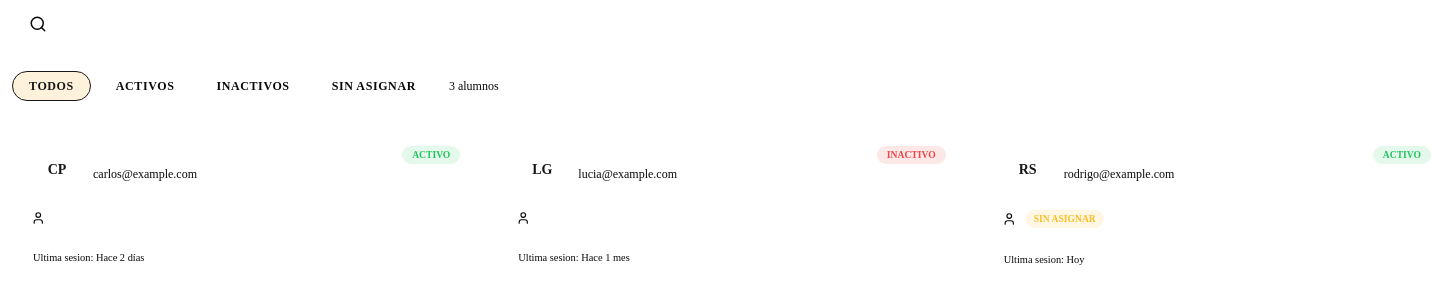
AdminAlumnosGrid › updates count label after filtering
This screenshot has width=1448, height=282.
Click the button "Activos": x=145, y=86 [99, 71, 191, 101]
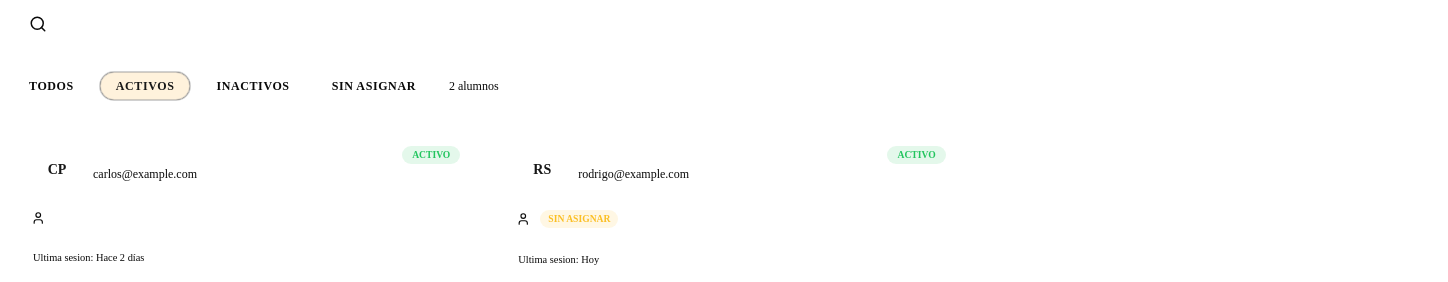
expect the text "2 alumnos" is shown: met, box [449, 78, 499, 94]
